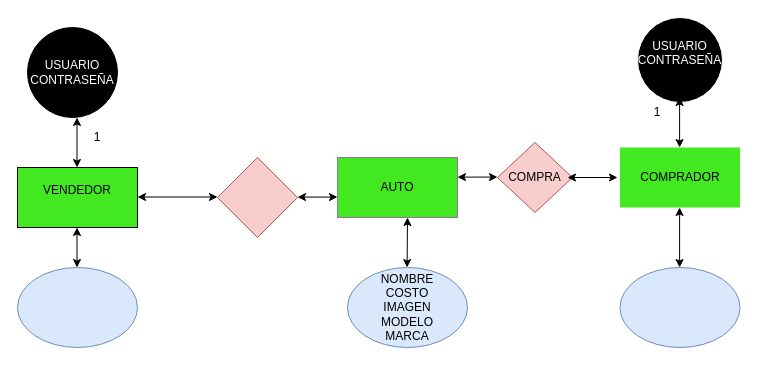
Image size: 758x365. Some labels were removed from this diagram. Here are the shapes that lost their labels. From the top down, the centre of each, then its label:
the point at 257,197: VENDE
the point at 77,307: NOMBRE APELLIDO TELEFONO VALORACIONES
the point at 679,307: NOMBRE APELLIDO DIRECCION TELEFONO
